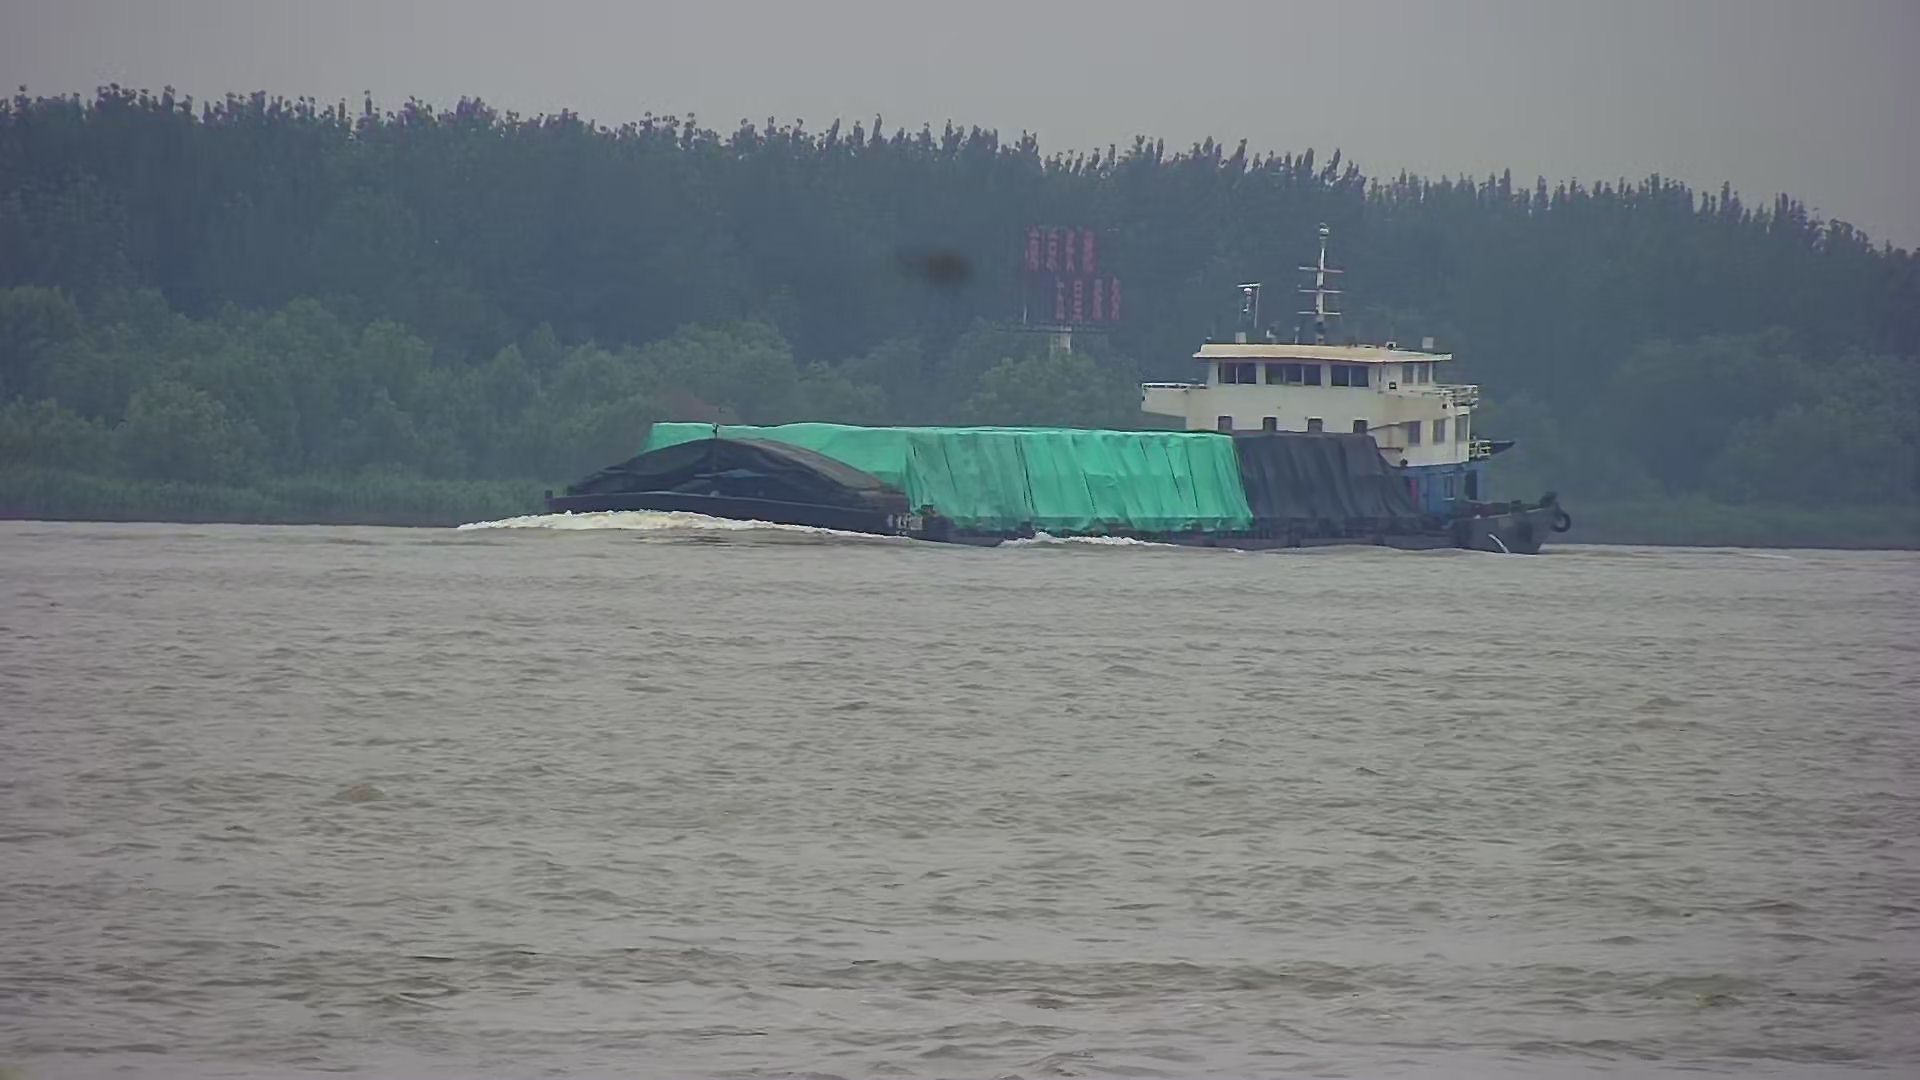ship: (455, 287, 1569, 559)
